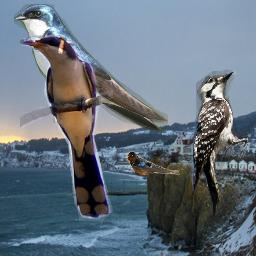Cuckoo: (20, 35, 113, 221)
Swallow: (14, 4, 168, 132), (126, 151, 180, 175)
Woodpecker: (188, 68, 248, 220)
